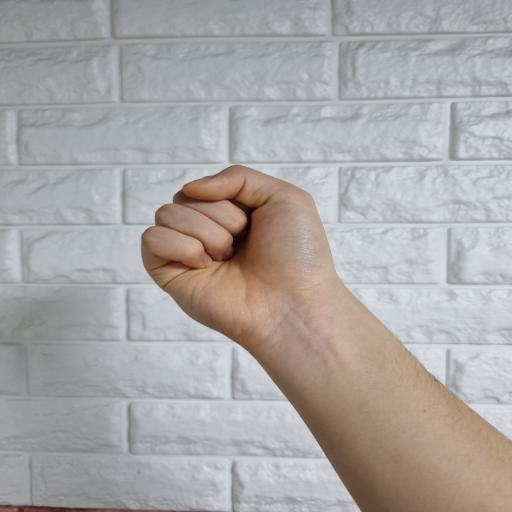Rock: (141, 166, 333, 346)
